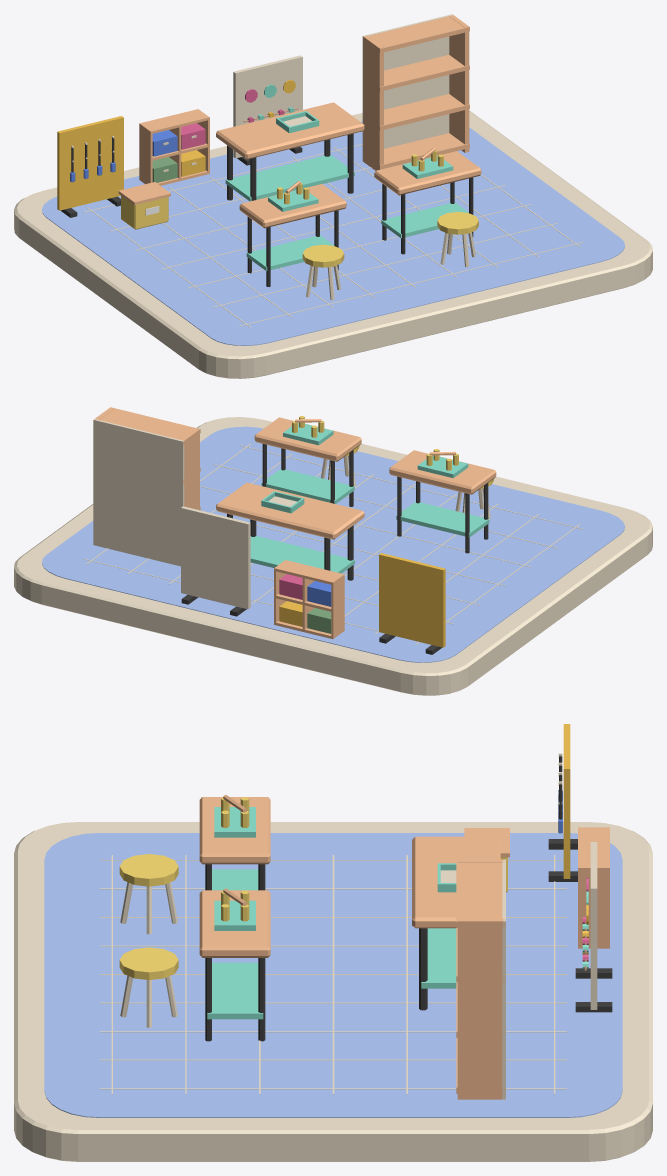
3 renders of one model, top to bottom at view 1: azimuth 30°, elevation 25°; view 2: azimuth 150°, elevation 25°; view 3: azimuth 270°, elevation 25°, orthographic. The views are drawn at different scales.
Parts seen in each view (by area): view 1: COM-02 Floor Surface, COM-01 Rounded Base Direct, Panel, Back, Worktop.002, Panel.001, Lower shelf.002, Side, Worktop.001, Worktop, Side.001, Shelf.003 (+17 smaller); view 2: COM-02 Floor Surface, COM-01 Rounded Base Direct, Back, Panel.001, Panel, Worktop.002, Worktop, Worktop.001, Lower shelf.002, Lower shelf, Lower shelf.001, Shelf.003 (+9 smaller); view 3: COM-02 Floor Surface, COM-01 Rounded Base Direct, Side.001, Worktop.002, Worktop, Worktop.001, Shelf.003, Lower shelf.001, Cubbies divider.002, Lower shelf.002, Seat, Seat.001 (+15 smaller).
Boxes of the visible parts, x1,y1,x2,y2 form: COM-02 Floor Surface: (42, 121, 624, 345); COM-01 Rounded Base Direct: (14, 110, 652, 378); Panel: (57, 116, 123, 210); Back: (362, 14, 452, 161); Worktop.002: (216, 102, 364, 159); Panel.001: (233, 55, 302, 158); Lower shelf.002: (225, 154, 354, 201); Side: (363, 35, 383, 170); Worktop.001: (374, 151, 481, 195); Worktop: (239, 184, 346, 228); Side.001: (449, 15, 469, 152); Shelf.003: (367, 16, 469, 53); COM-02 Floor Surface: (42, 426, 624, 662); COM-01 Rounded Base Direct: (14, 417, 652, 695); Back: (93, 419, 184, 566); Panel.001: (181, 506, 250, 609); Panel: (379, 553, 445, 647); Worktop.002: (216, 482, 364, 539); Worktop: (389, 450, 496, 494); Worktop.001: (254, 417, 361, 461); Lower shelf.002: (250, 536, 354, 573); Lower shelf: (396, 501, 489, 537); Lower shelf.001: (261, 469, 354, 503); Shelf.003: (100, 407, 200, 445); COM-02 Floor Surface: (44, 833, 622, 1117); COM-01 Rounded Base Direct: (14, 822, 652, 1161); Side.001: (457, 918, 504, 1099); Worktop.002: (412, 836, 500, 928); Worktop: (199, 797, 270, 864); Worktop.001: (199, 890, 270, 957); Shelf.003: (456, 859, 505, 927); Lower shelf.001: (207, 962, 263, 1019); Cubbies divider.002: (578, 868, 609, 948); Lower shelf.002: (421, 928, 456, 988); Seat: (119, 854, 178, 886); Seat.001: (119, 947, 178, 979).
Size of the model in its own units: 6 by 1.9 by 5.2.
Materials: 1 (1 with a texture image).
